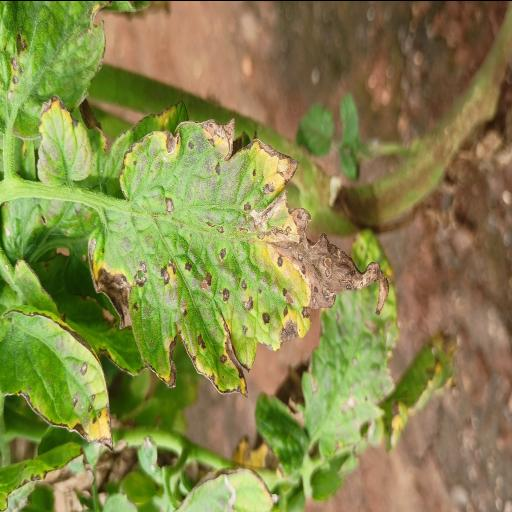Early Blight: (86, 107, 392, 404)
